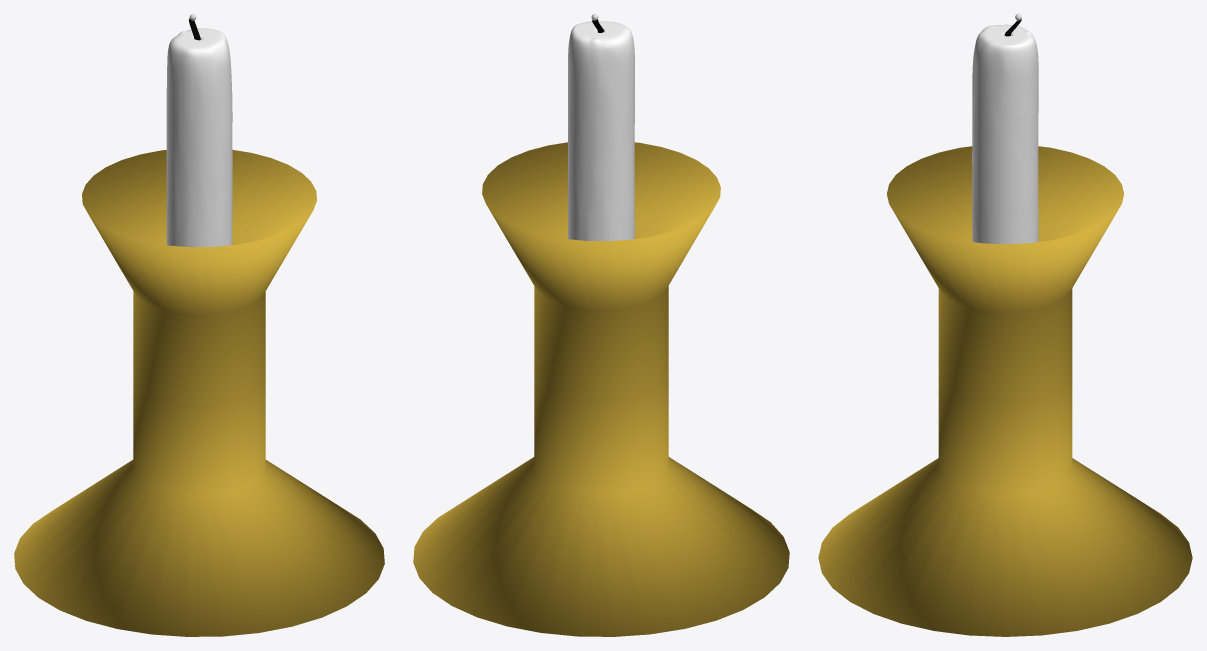
Rendered from candle export.glb.
The picture shows the model from 3 angles, left to right: view 1: azimuth 30°, elevation 25°; view 2: azimuth 150°, elevation 25°; view 3: azimuth 270°, elevation 25°; orthographic projection.
Visible parts, largest first — view 1: Cylinder, body; view 2: Cylinder, body; view 3: Cylinder, body.
Boxes of the visible parts, x1,y1,x2,y2 form: Cylinder: (14, 150, 384, 636); body: (166, 18, 232, 247); Cylinder: (413, 142, 789, 636); body: (568, 19, 634, 241); Cylinder: (818, 146, 1192, 636); body: (972, 19, 1038, 244).
Bounding box in the file's own units: 5.6 × 8.97 × 5.6.
